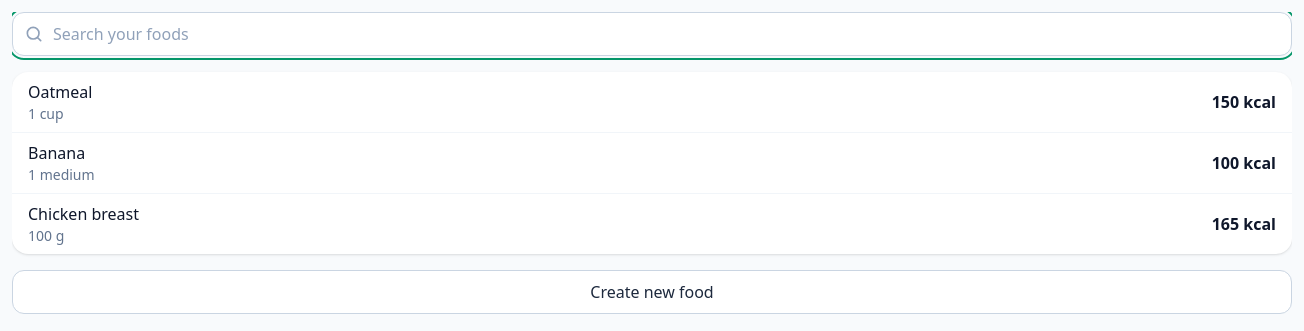
Test: AddFoodView (Log food) › says so when nothing matches
Type "zzz" into the search field with placeholder "Search your foods". click: point(652, 34)
box: [12, 12, 1292, 56]
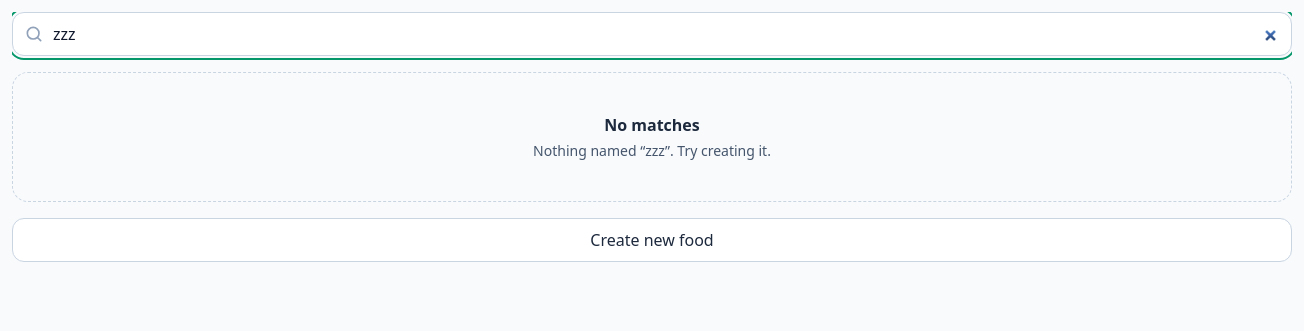
expect the text "No matches" is shown: met, box [604, 113, 700, 137]
